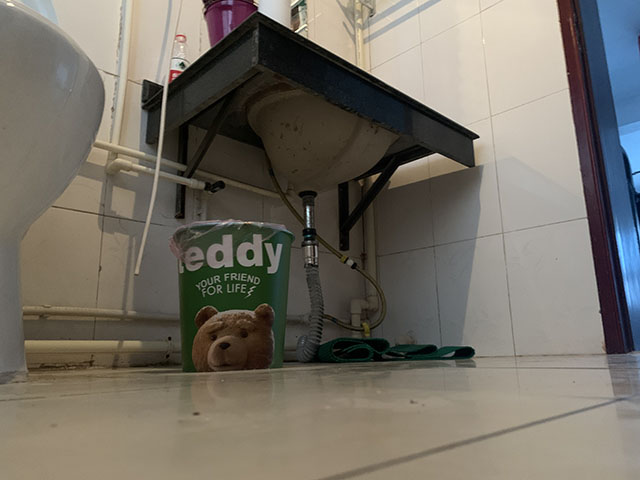trashcan: (167, 218, 298, 373)
